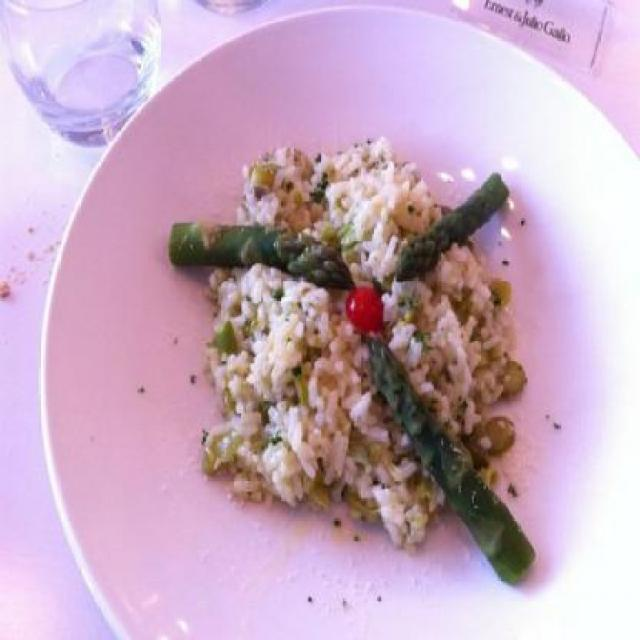Risotto: (206, 134, 505, 548)
